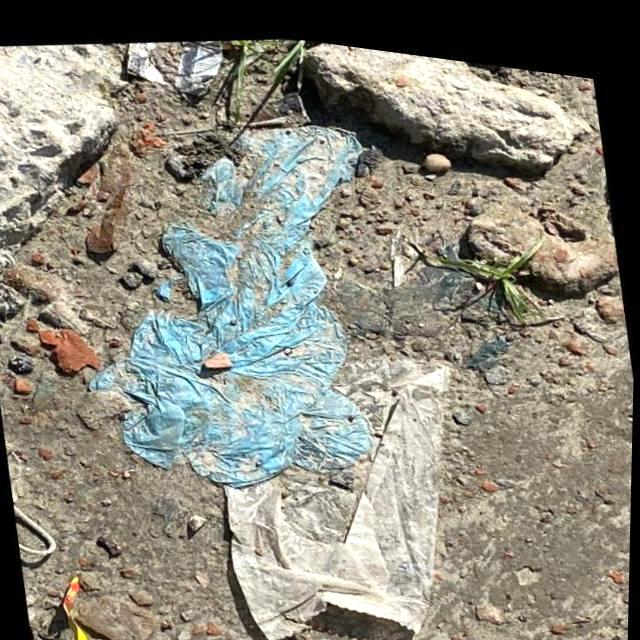polythene: (64, 66, 425, 530), (197, 314, 508, 640)
